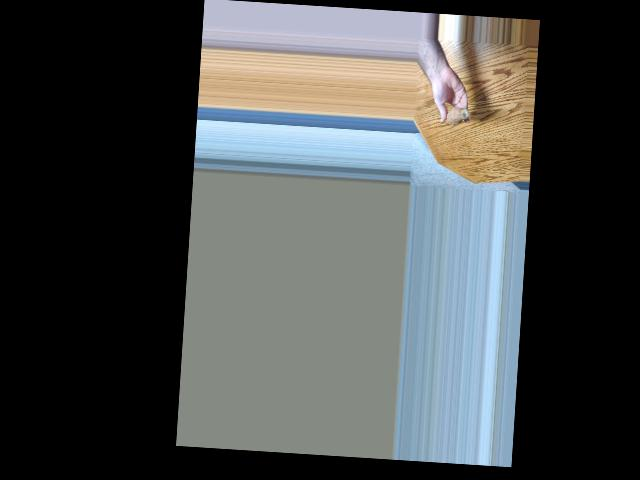sweet_potato: (442, 106, 469, 133)
